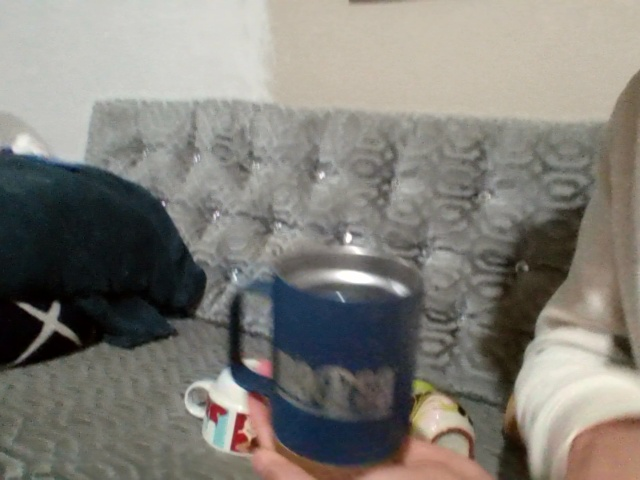botella: (238, 227, 410, 457), (155, 347, 285, 451), (385, 356, 490, 472)
